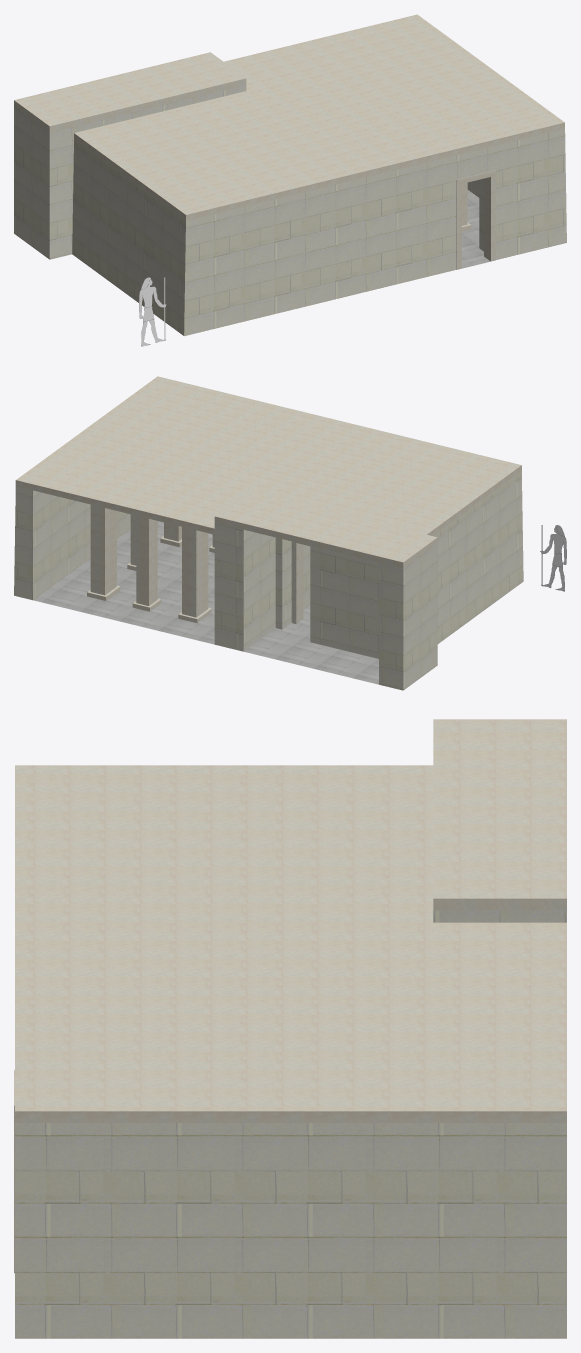
File: Ihy.obj
3 views of the same model, one above another, from view 1: azimuth 30°, elevation 25°; view 2: azimuth 150°, elevation 25°; view 3: azimuth 270°, elevation 25° (orthographic). The views are drawn at different scales.
Visible parts, largest first — view 1: Mesh1 Model, Mesh2 Model; view 2: Mesh1 Model, Mesh2 Model; view 3: Mesh1 Model.
Part boxes in pixels (<box>): Mesh1 Model: <box>14,14,566,335</box>; Mesh2 Model: <box>139,277,166,346</box>; Mesh1 Model: <box>14,376,523,690</box>; Mesh2 Model: <box>540,525,566,591</box>; Mesh1 Model: <box>14,719,566,1338</box>.
Size of the model in its own units: 10.57 by 3.16 by 6.33.
5 materials, 4 textured.
